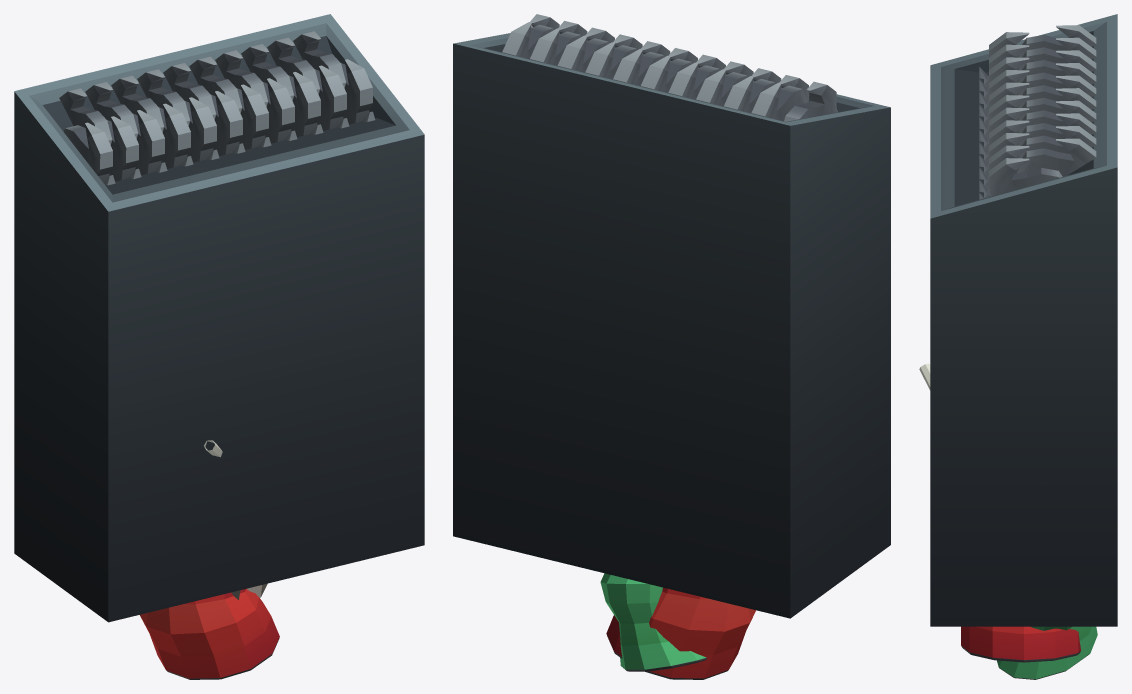
The model's file is Trash.fbx.
3 renders of one model, left to right at view 1: azimuth 30°, elevation 25°; view 2: azimuth 150°, elevation 25°; view 3: azimuth 270°, elevation 25°, orthographic. The views are drawn at different scales.
Visible parts, largest first — view 1: Cube, Circle.002, Circle.001, COLA RUGGED; view 2: Cube, Circle.001, COLA RUGGED, SLURPY RUGGED, Circle.002; view 3: Cube, Circle.001, Circle.002, COLA RUGGED, SLURPY RUGGED.
Part boxes in pixels (<box>): Cube: <box>14,14,424,622</box>; Circle.002: <box>63,59,375,185</box>; Circle.001: <box>59,31,345,144</box>; COLA RUGGED: <box>140,588,279,679</box>; Cube: <box>453,33,890,618</box>; Circle.001: <box>502,22,807,121</box>; COLA RUGGED: <box>606,587,755,679</box>; SLURPY RUGGED: <box>600,573,706,671</box>; Circle.002: <box>530,14,837,121</box>; Cube: <box>930,14,1117,626</box>; Circle.001: <box>1016,25,1096,176</box>; Circle.002: <box>979,32,1062,199</box>; COLA RUGGED: <box>961,626,1080,662</box>; SLURPY RUGGED: <box>919,363,1097,679</box>.
Bounding box in the file's own units: 200 × 354 × 109.
1 material, 1 textured.
